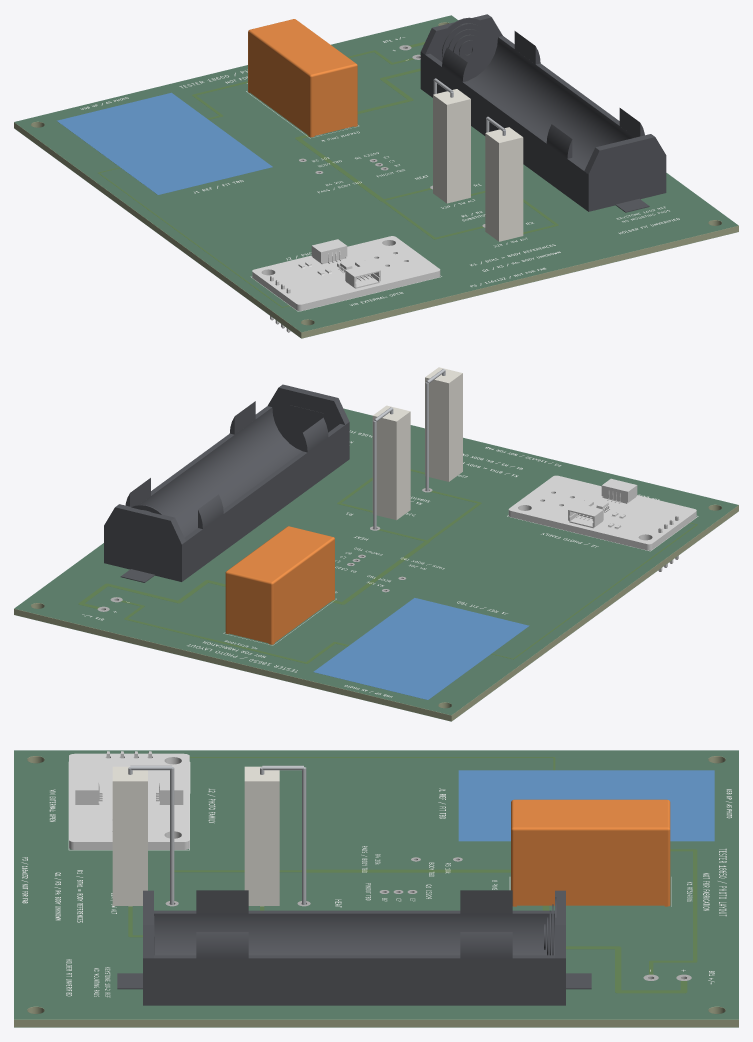
Rendered from tester18650_pcb_3d.glb.
3 renders of one model, top to bottom at view 1: azimuth 30°, elevation 25°; view 2: azimuth 150°, elevation 25°; view 3: azimuth 270°, elevation 25°, orthographic. The views are drawn at different scales.
Visible parts, largest first — view 1: =>[0:1:1:44], =>[0:1:1:46], =>[0:1:1:40], =>[0:1:1:35], =>[0:1:1:37], =>[0:1:1:3], =>[0:1:1:29] (×2), =>[0:1:1:43], =>[0:1:1:41]; view 2: =>[0:1:1:44], =>[0:1:1:46], =>[0:1:1:40], =>[0:1:1:35], =>[0:1:1:37], =>[0:1:1:3], =>[0:1:1:29] (×2), =>[0:1:1:43], =>[0:1:1:41]; view 3: =>[0:1:1:44], =>[0:1:1:46], =>[0:1:1:40], =>[0:1:1:37], =>[0:1:1:35], =>[0:1:1:29] (×2), =>[0:1:1:3], =>[0:1:1:43], =>[0:1:1:41], =>[0:1:1:33] (×2), =>[0:1:1:45], =>[0:1:1:42].
Part boxes in pixels (x1,y1,x2,y2): =>[0:1:1:44]: [14, 15, 738, 332]; =>[0:1:1:46]: [14, 16, 738, 338]; =>[0:1:1:40]: [420, 14, 666, 212]; =>[0:1:1:35]: [57, 92, 272, 194]; =>[0:1:1:37]: [248, 19, 357, 137]; =>[0:1:1:3]: [252, 236, 440, 332]; =>[0:1:1:29] (×2): [433, 89, 523, 241]; =>[0:1:1:43]: [80, 37, 679, 311]; =>[0:1:1:41]: [99, 42, 557, 307]; =>[0:1:1:44]: [14, 408, 738, 715]; =>[0:1:1:46]: [14, 409, 738, 721]; =>[0:1:1:40]: [104, 384, 349, 582]; =>[0:1:1:35]: [313, 598, 529, 699]; =>[0:1:1:37]: [225, 526, 334, 644]; =>[0:1:1:3]: [508, 475, 696, 571]; =>[0:1:1:29] (×2): [372, 367, 462, 520]; =>[0:1:1:43]: [82, 430, 698, 697]; =>[0:1:1:41]: [79, 470, 696, 663]; =>[0:1:1:44]: [14, 750, 738, 1019]; =>[0:1:1:46]: [14, 751, 738, 1027]; =>[0:1:1:40]: [117, 890, 591, 1005]; =>[0:1:1:37]: [511, 799, 670, 906]; =>[0:1:1:35]: [458, 770, 714, 841]; =>[0:1:1:29] (×2): [112, 766, 279, 905]; =>[0:1:1:3]: [69, 751, 189, 849]; =>[0:1:1:43]: [21, 762, 731, 997]; =>[0:1:1:41]: [129, 757, 696, 992]; =>[0:1:1:33] (×2): [170, 767, 306, 904]; =>[0:1:1:45]: [14, 1027, 738, 1027]; =>[0:1:1:42]: [128, 857, 691, 980].
Size of the model in its own units: 0.116 by 0.036 by 0.132.
